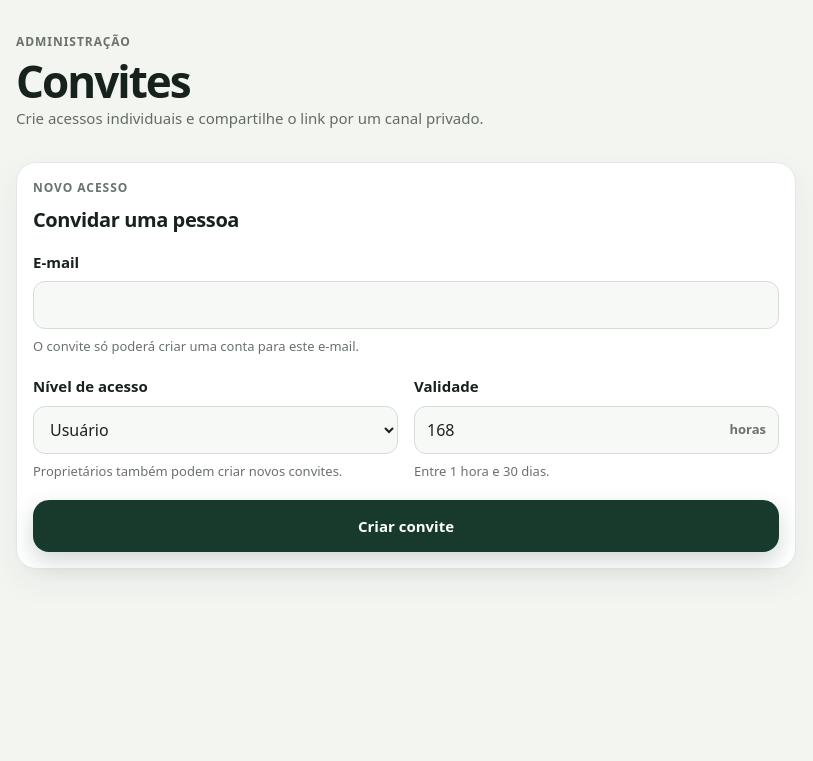
it: administração de convites › envia o contrato exato com CSRF e gera um link cujo token existe apenas no fragmento
This screenshot has width=813, height=761.
Type "new.member@example.com" into the field labelled "E-mail".
click(406, 305); type("new.member@example.com")  # box [33,281,779,329]
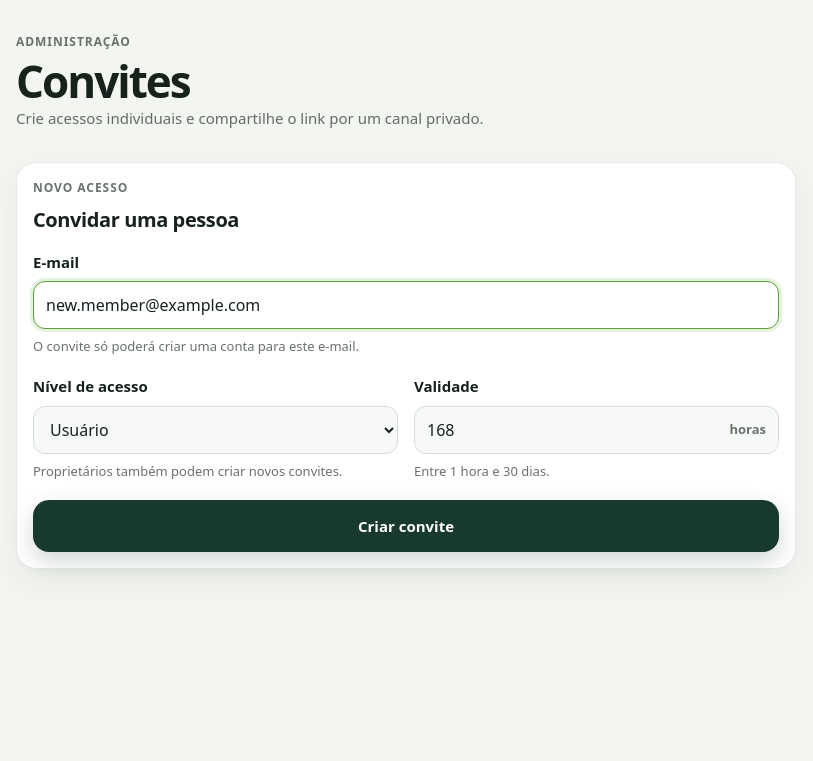
Click the button "Criar convite".
click(406, 526)  # box [33,500,779,552]
(page scrolled)
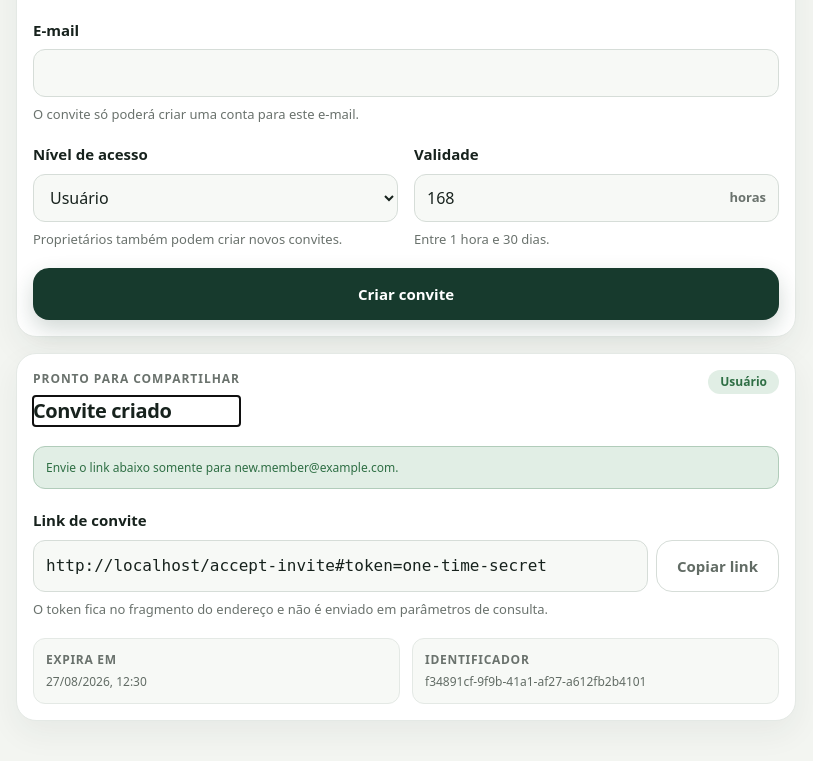
Click the button "Copiar link".
click(718, 566)  # box [656,540,779,592]
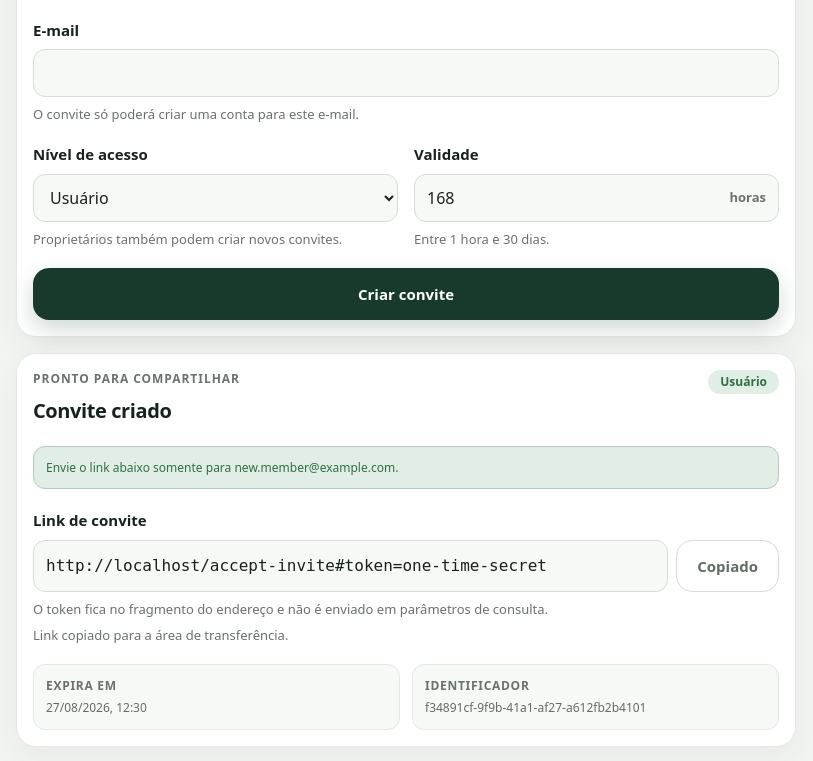
Expected: the text "Link copiado para a área de transferência." is shown, [33,626,288,644]
